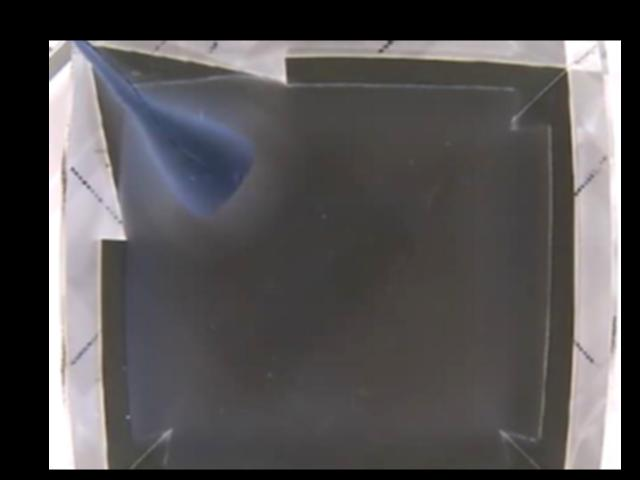Mooli: (133, 99, 258, 219)
